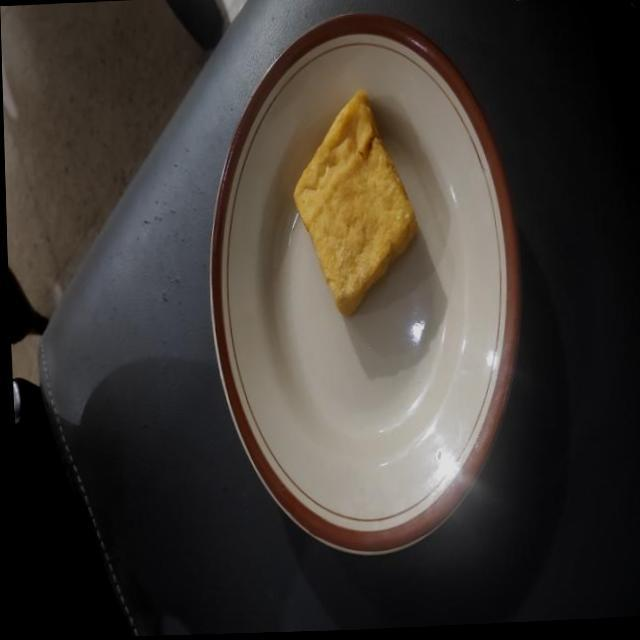tahu_goreng: (294, 90, 417, 315)
